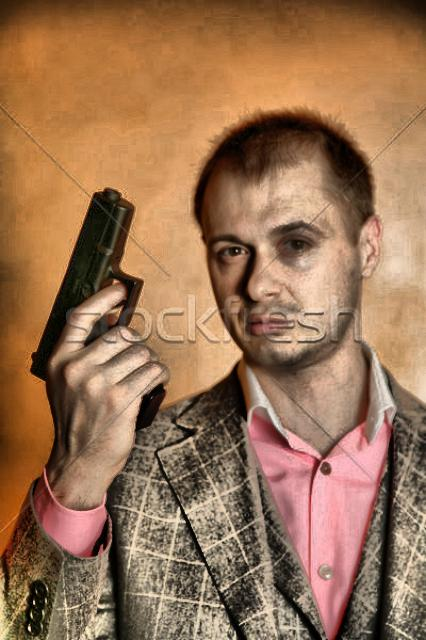pistol: (22, 165, 164, 431)
